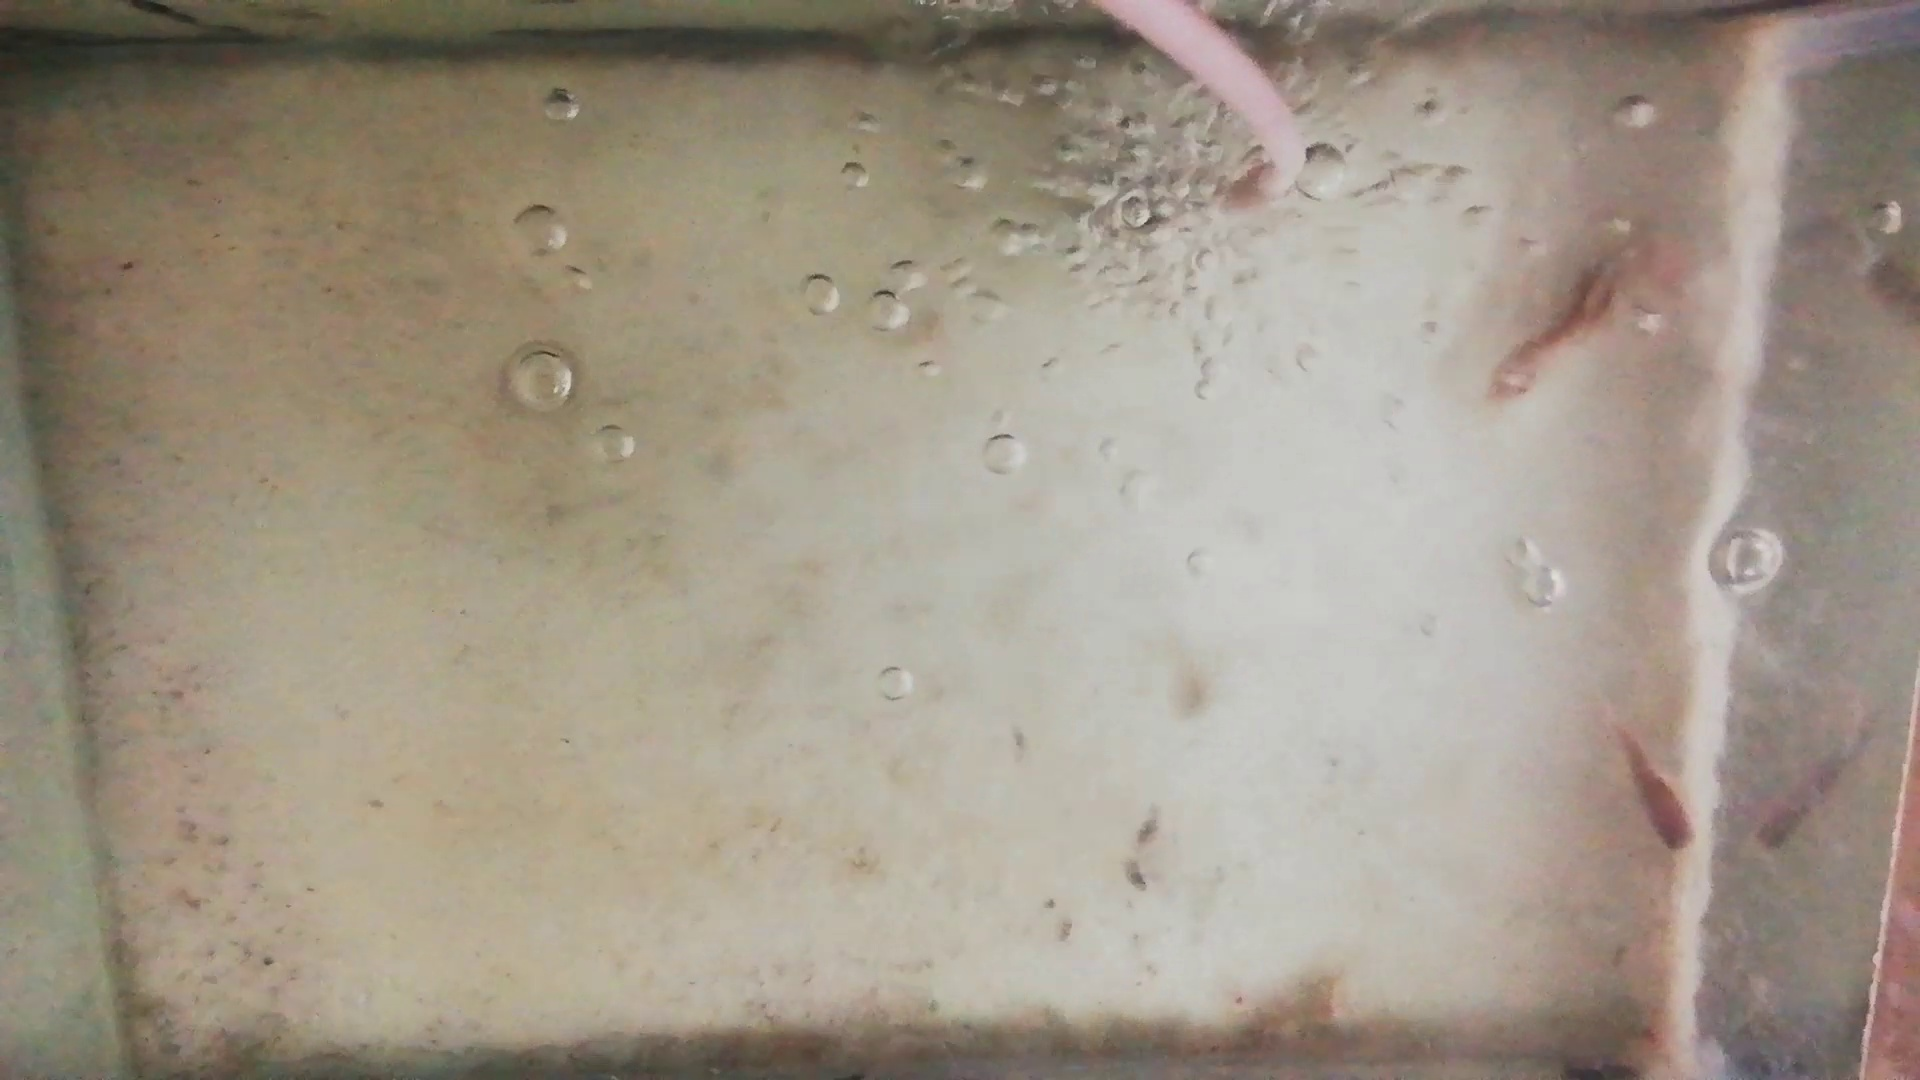fish: (1491, 252, 1631, 397), (1610, 719, 1693, 857)
